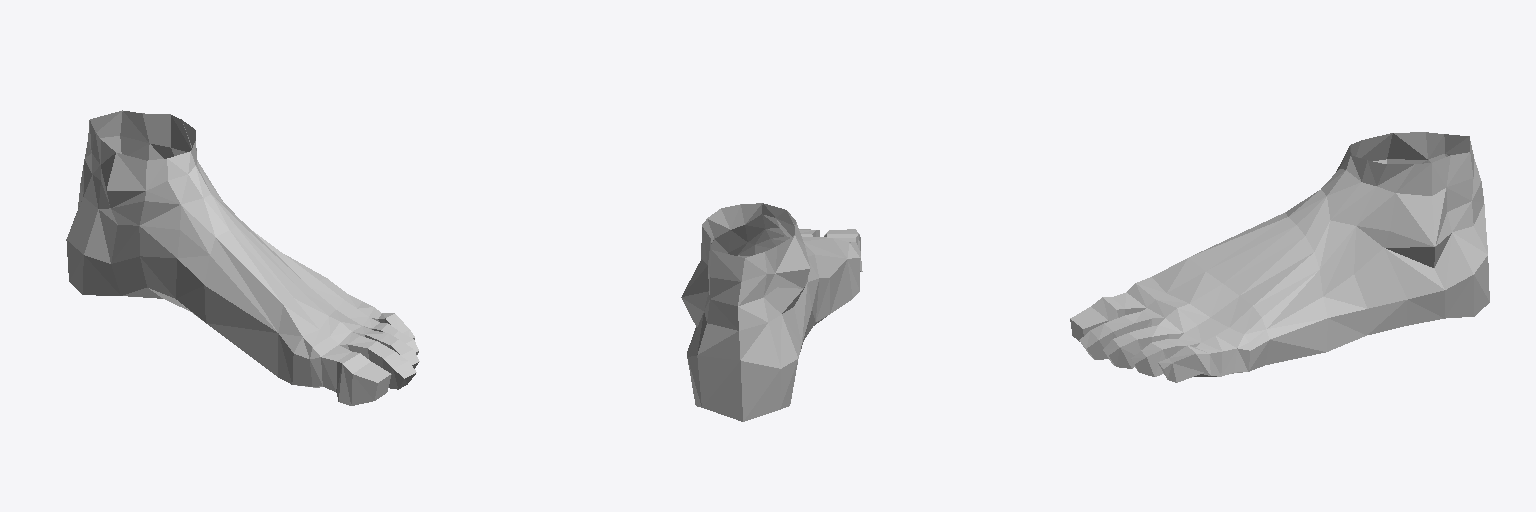
File: Left Foot.obj
The picture shows the model from 3 angles: view 1: azimuth 30°, elevation 25°; view 2: azimuth 150°, elevation 25°; view 3: azimuth 270°, elevation 25°; orthographic projection.
Parts seen in each view (by area): view 1: nd2_engineer_reference.001; view 2: nd2_engineer_reference.001; view 3: nd2_engineer_reference.001.
Part boxes in pixels (left/top/right/bottom): nd2_engineer_reference.001: left=66, top=110, right=419, bottom=405; nd2_engineer_reference.001: left=681, top=203, right=862, bottom=421; nd2_engineer_reference.001: left=1070, top=132, right=1489, bottom=382.
Bounding box in the file's own units: 7.59 × 6.35 × 13.62.